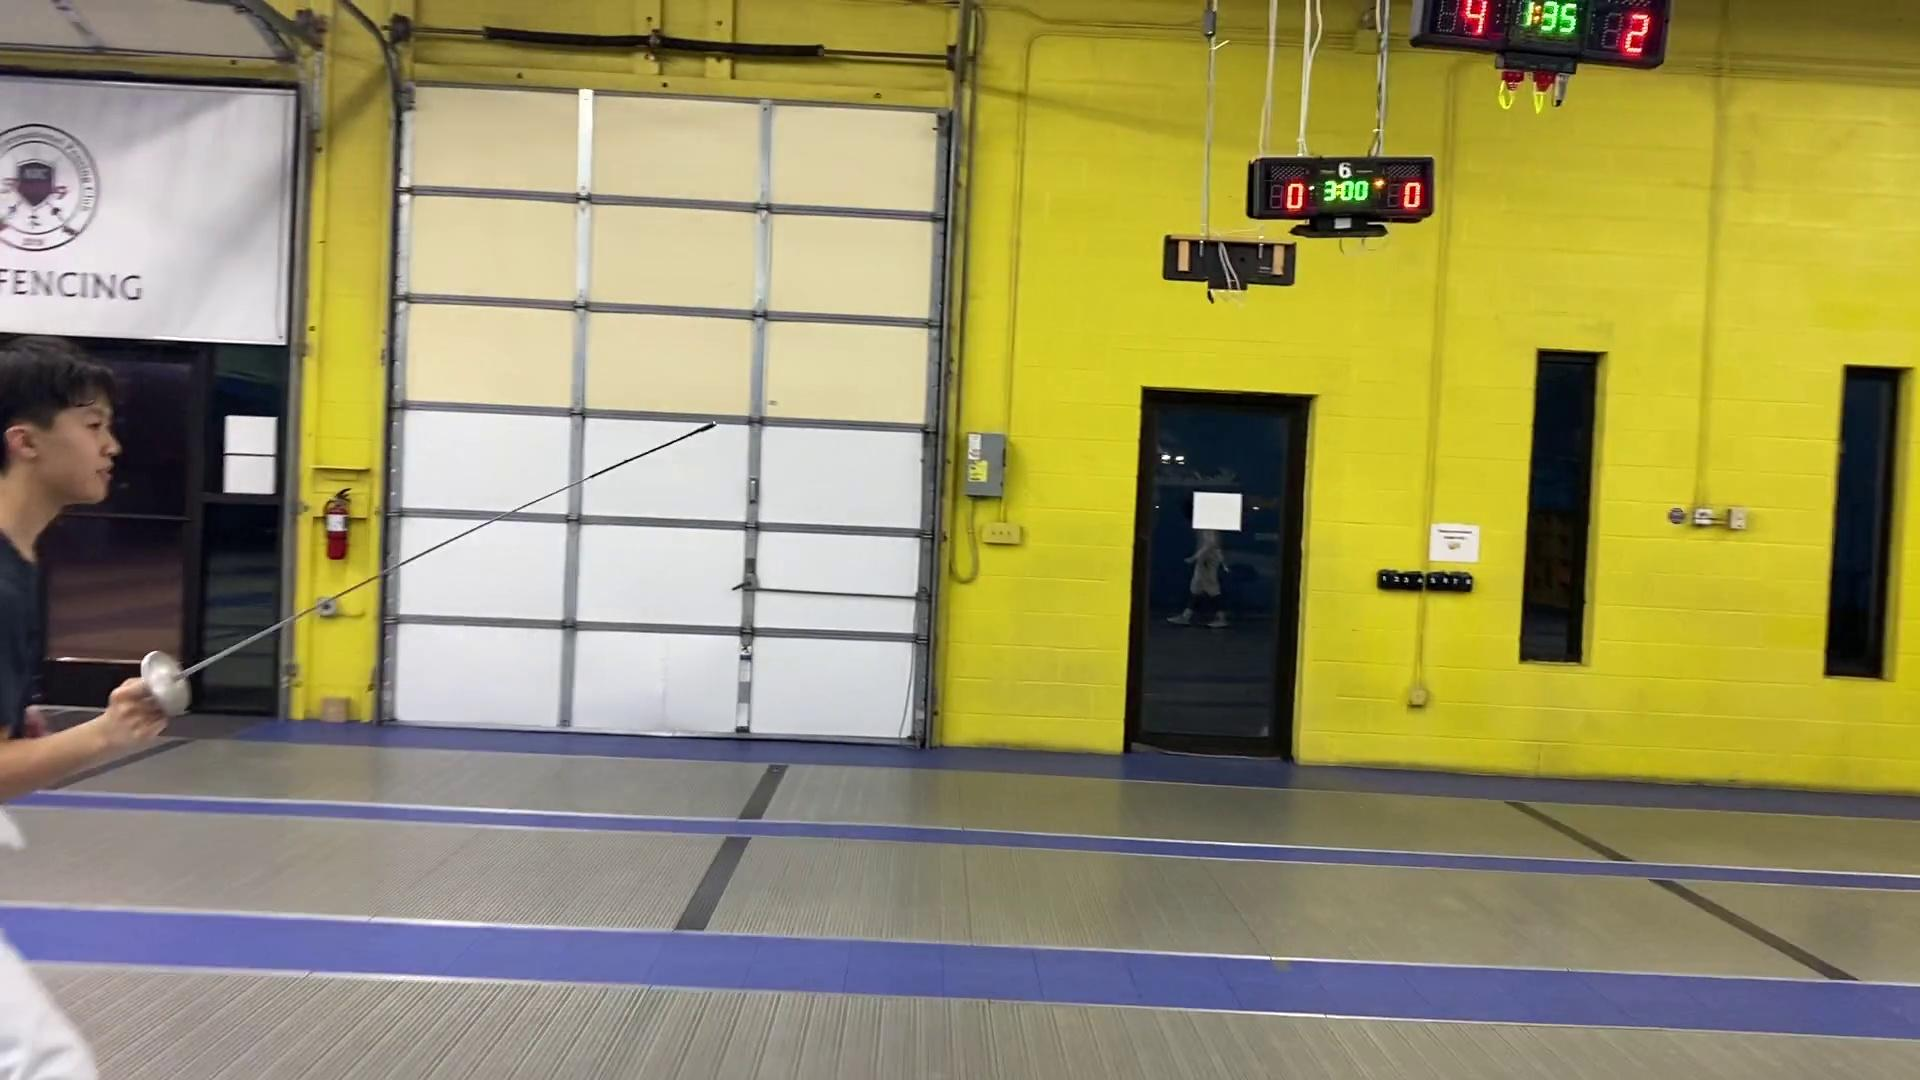blade-guard: (138, 645, 196, 727)
blade-tip: (585, 418, 723, 485)
fencing-blade: (131, 413, 729, 727)
